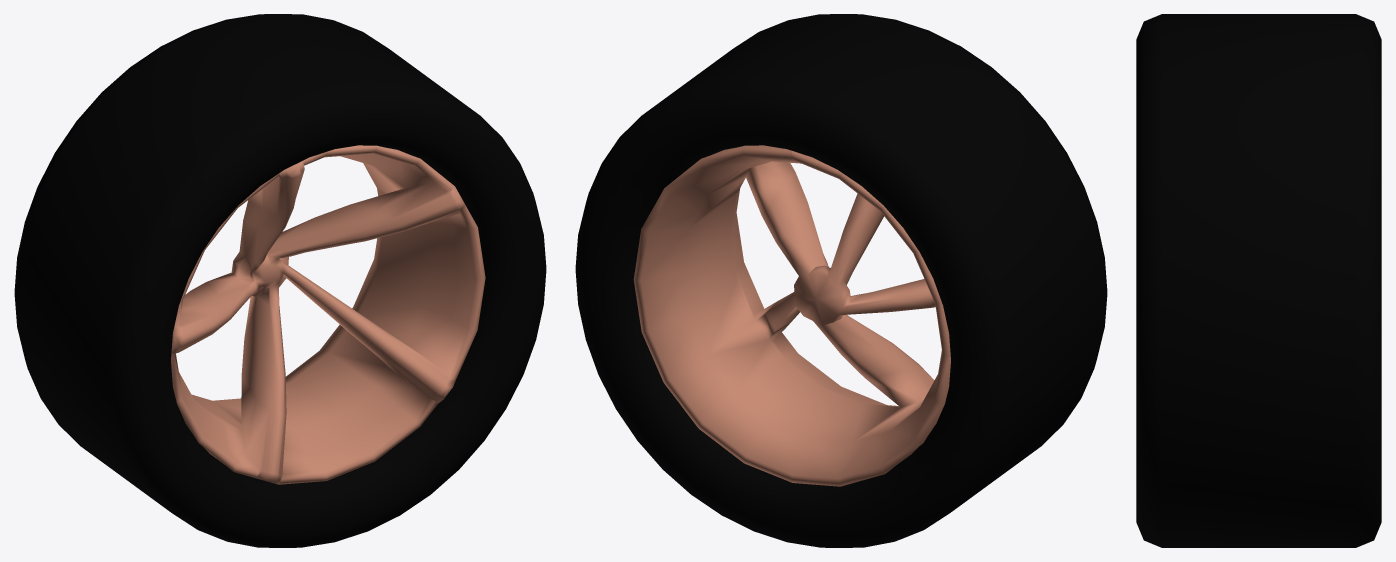
Rendered from wheel.fbx.
3 views of the same model, side by side, from view 1: azimuth 30°, elevation 25°; view 2: azimuth 150°, elevation 25°; view 3: azimuth 270°, elevation 25° (orthographic). The views are drawn at different scales.
Parts seen in each view (by area): view 1: tires.001; view 2: tires.001; view 3: tires.001.
Part boxes in pixels (x1=…): tires.001: x1=14, y1=14, x2=546, y2=547; tires.001: x1=575, y1=14, x2=1107, y2=547; tires.001: x1=1136, y1=14, x2=1381, y2=547.
Bounding box in the file's own units: 289 × 289 × 133.
